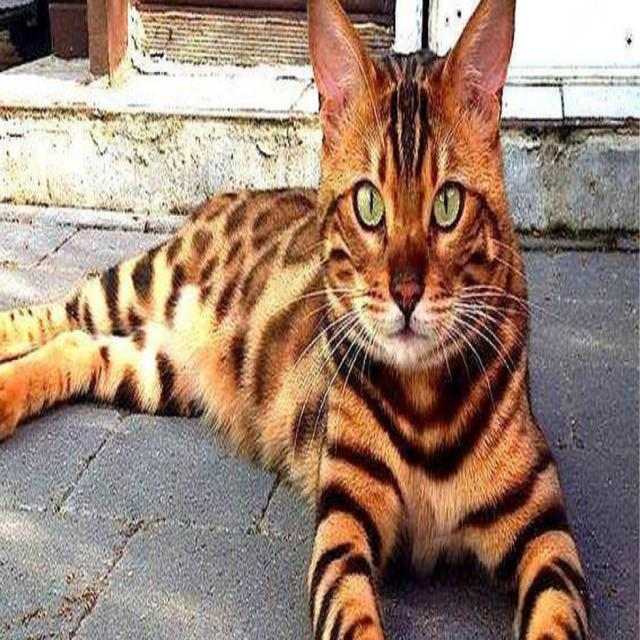Cat: (301, 0, 525, 412)
